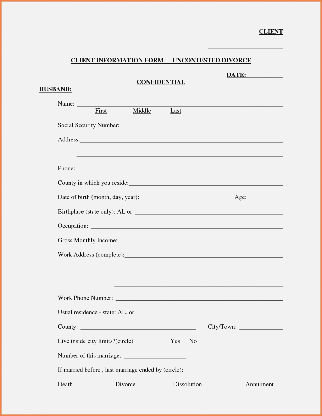textline: (76, 100, 284, 108), (76, 150, 284, 158), (76, 164, 284, 172), (90, 222, 284, 230), (79, 137, 284, 144), (113, 294, 284, 302), (134, 207, 284, 216), (124, 251, 284, 259), (128, 178, 284, 186), (113, 266, 284, 273), (113, 280, 284, 287), (135, 309, 284, 317), (119, 122, 284, 129), (80, 322, 197, 331), (139, 193, 228, 202), (207, 42, 284, 51), (226, 69, 284, 79), (123, 352, 188, 360), (119, 237, 183, 245), (238, 324, 284, 331), (248, 194, 284, 201)
